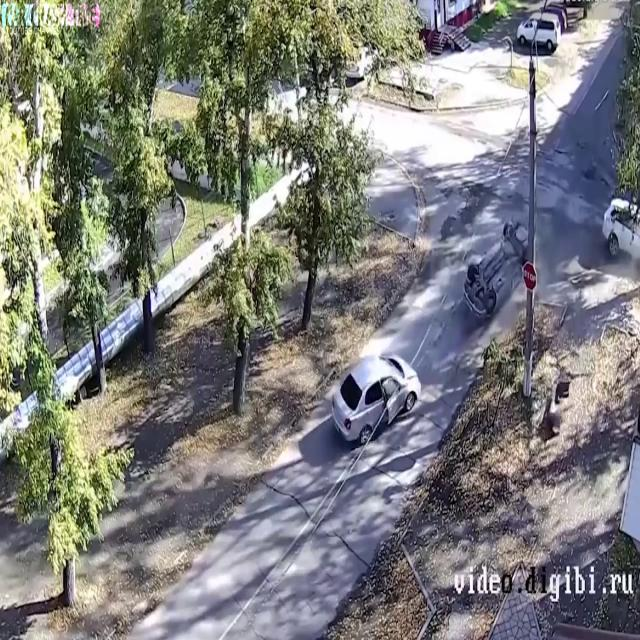Accident: (314, 294, 436, 486), (442, 180, 538, 369)
